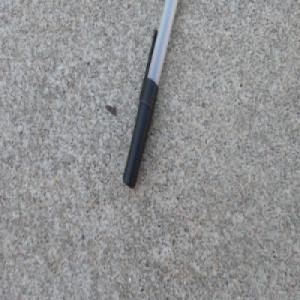Pen: (121, 0, 179, 189)
